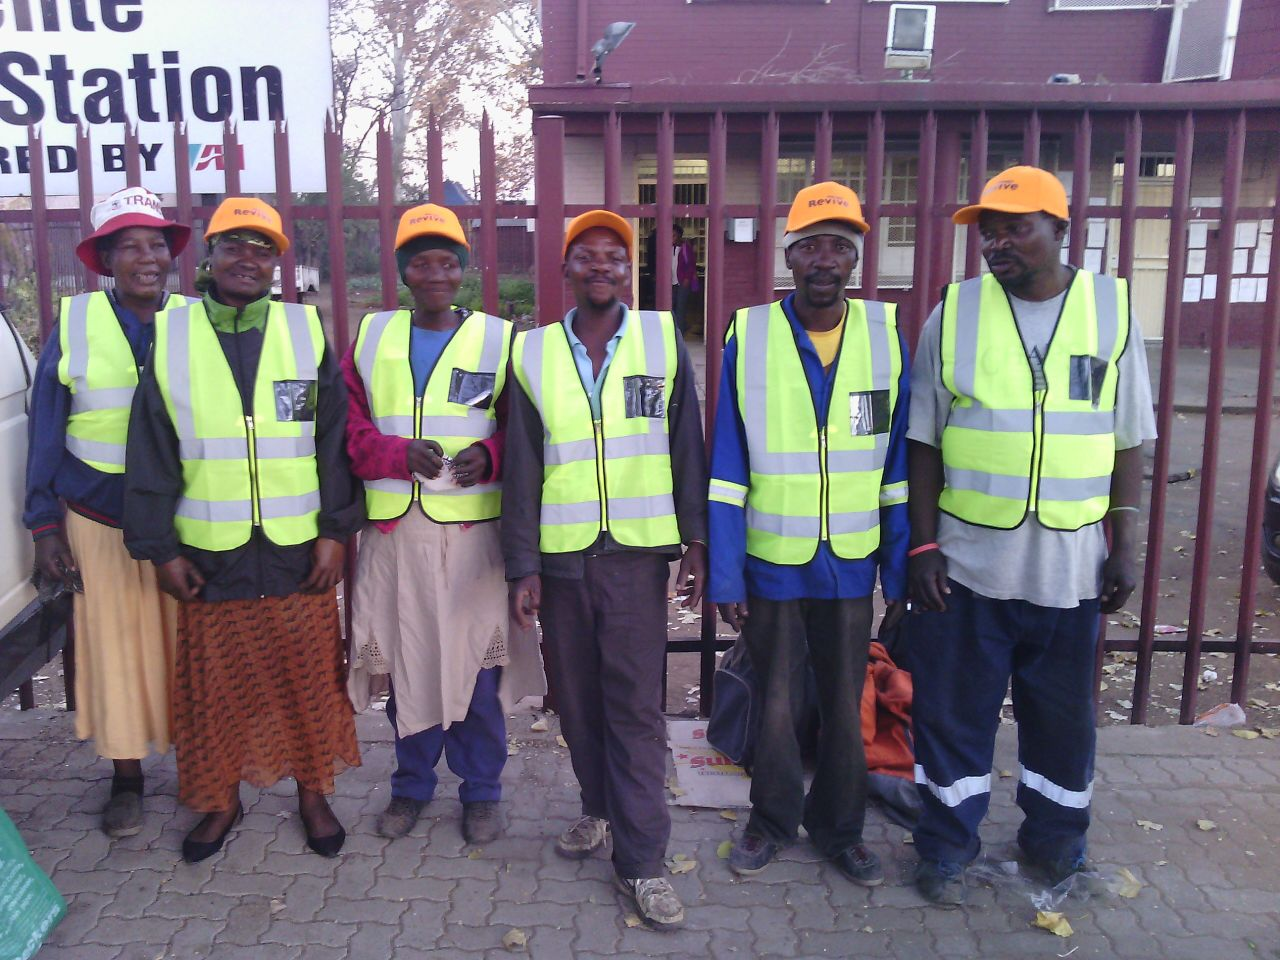Person: (508, 213, 710, 928), (715, 180, 917, 888), (927, 170, 1115, 904), (167, 200, 356, 861), (348, 207, 537, 846), (31, 187, 195, 836)
Vest: (729, 223, 908, 563), (941, 219, 1128, 539), (165, 238, 329, 547), (523, 247, 687, 551), (362, 247, 513, 529), (55, 230, 188, 473)
